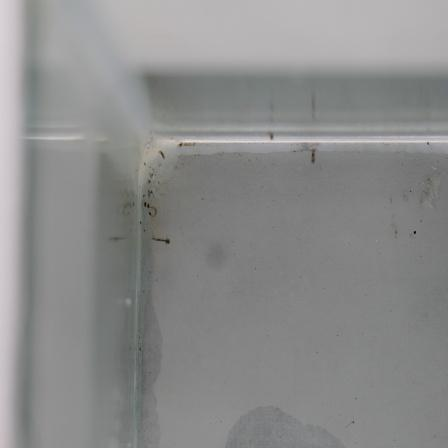Jentik-Nyamuk: (138, 197, 163, 220), (304, 143, 322, 169), (148, 232, 173, 249)
